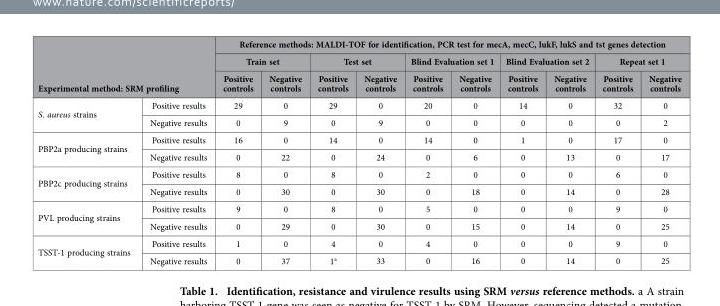table: (37, 37, 680, 266)
table column: (37, 37, 139, 266), (139, 37, 214, 266), (545, 37, 595, 266), (260, 37, 309, 266), (450, 37, 499, 266), (355, 37, 403, 266), (403, 37, 450, 266), (214, 37, 260, 266), (309, 37, 355, 266), (499, 37, 545, 266), (595, 37, 640, 266), (640, 37, 680, 266)
table column header: (37, 37, 680, 96)
table row: (37, 69, 680, 96), (37, 130, 680, 148), (37, 199, 680, 217), (37, 52, 680, 69), (37, 96, 680, 113), (37, 113, 680, 130), (37, 148, 680, 165), (37, 165, 680, 182), (37, 182, 680, 199), (37, 217, 680, 234), (37, 234, 680, 251), (37, 37, 680, 52), (37, 251, 680, 266)
table spanning cell: (214, 37, 680, 52), (37, 69, 214, 96), (37, 130, 139, 165), (37, 199, 139, 234), (37, 96, 139, 130), (37, 165, 139, 199), (37, 234, 139, 266), (403, 52, 499, 69), (499, 52, 595, 69), (214, 52, 309, 69), (309, 52, 403, 69), (595, 52, 680, 69)
